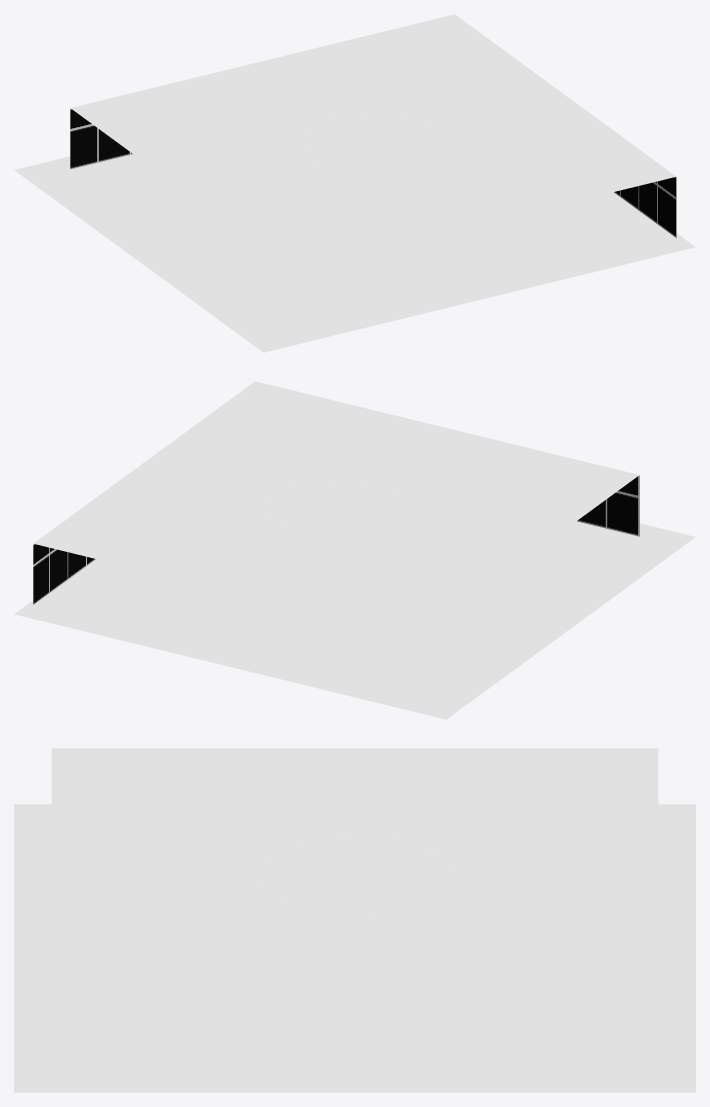
File: 3DVW.glb
3 views of the same model, one above another, from view 1: azimuth 30°, elevation 25°; view 2: azimuth 150°, elevation 25°; view 3: azimuth 270°, elevation 25° (orthographic). The views are drawn at different scales.
Visible parts, largest first — view 1: Plane.001, Plane, Plane.003; view 2: Plane.001, Plane, Plane.003; view 3: Plane.001, Plane.
Boxes of the visible parts, <box> form: Plane.001: <box>70,14,676,270</box>; Plane: <box>14,154,695,352</box>; Plane.003: <box>70,108,676,237</box>; Plane.001: <box>33,381,639,637</box>; Plane: <box>14,521,695,719</box>; Plane.003: <box>33,475,639,604</box>; Plane.001: <box>51,748,658,1004</box>; Plane: <box>14,804,695,1092</box>.
Bounding box in the file's own units: 58.48 × 7.99 × 58.48.
4 materials, 4 textured.
